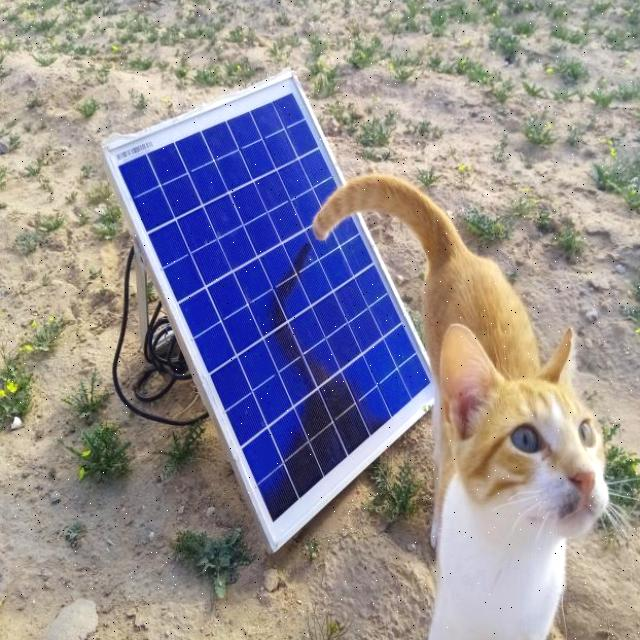Normal Solar Panel: (103, 76, 436, 552)
